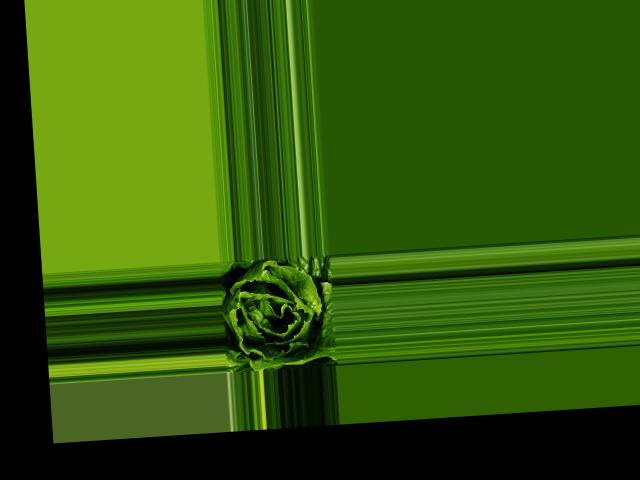lettuce: (220, 256, 338, 371)
